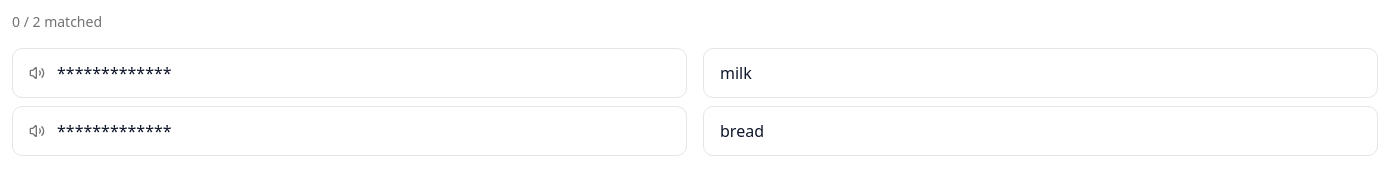
MatchingExercise › reveals the Croatian word when a correct pair is selected
Click the 1st button "*************" at x=114, y=73, box x1=12 y1=48 x2=687 y2=98
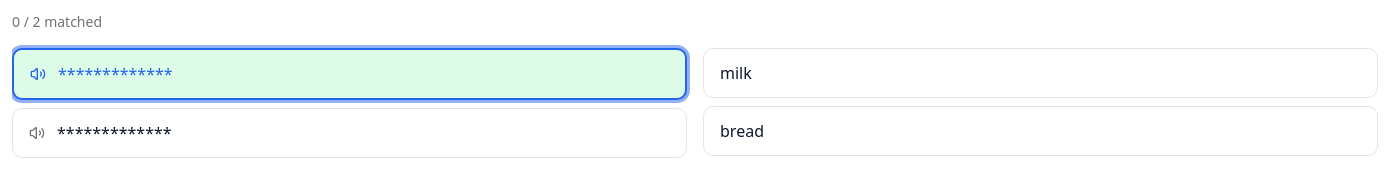
Click the button "bread" at x=742, y=131, box x1=703 y1=106 x2=1378 y2=156
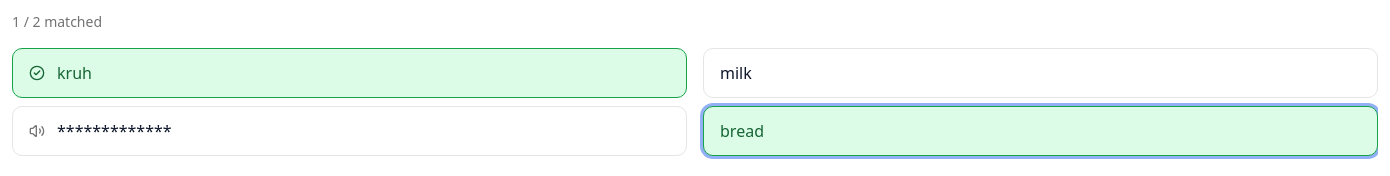
Now the text "kruh" is shown, box x1=57 y1=61 x2=92 y2=85
Now the text "1 / 2 matched" is shown, box x1=12 y1=12 x2=102 y2=31
